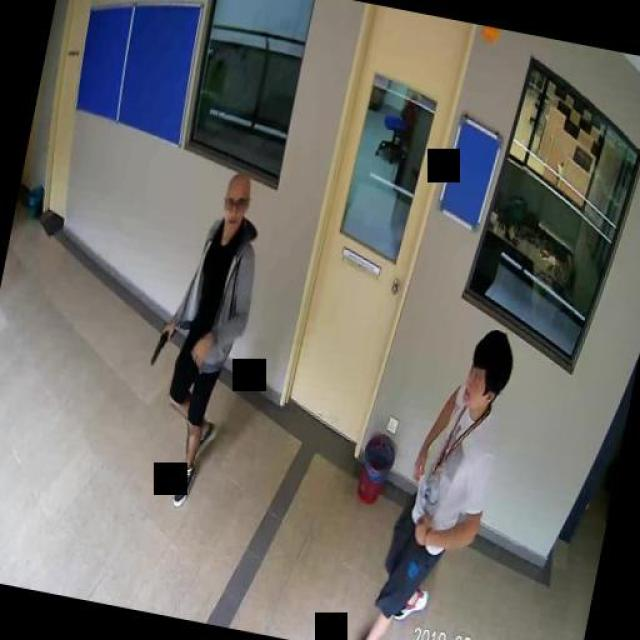gun: (148, 322, 174, 367)
